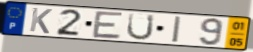2: (57, 8, 84, 38)
9: (198, 17, 225, 47)
E: (91, 10, 126, 40)
I: (171, 15, 183, 44)
K: (28, 7, 55, 35)
U: (125, 12, 156, 42)
